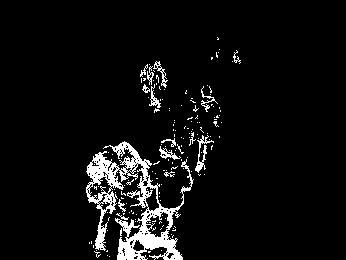person: (84, 139, 118, 257), (153, 138, 195, 231), (118, 136, 151, 245), (126, 209, 181, 260), (191, 85, 219, 180), (141, 59, 168, 112)
